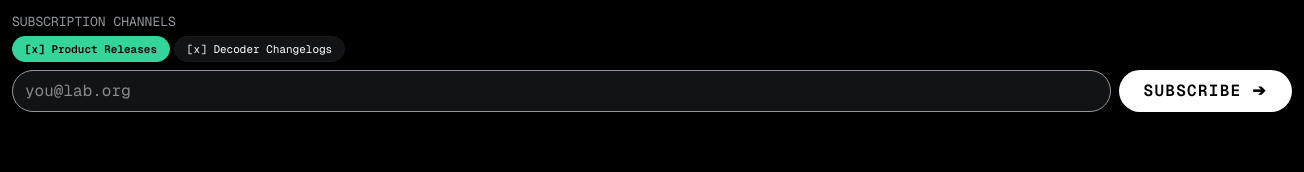
Test: SubscribeForm › subscribes and confirms on valid email
Type "researcher@lab.org" into the field with placeholder "you@lab.org" at (561, 91), box left=12, top=70, right=1110, bottom=112
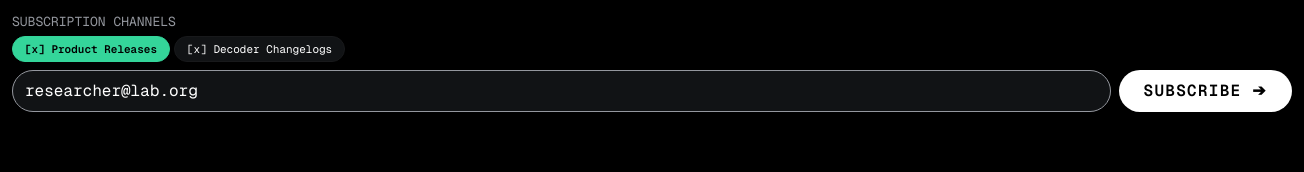
Click the button "Subscribe ➔" at (1205, 91), box left=1118, top=70, right=1292, bottom=112
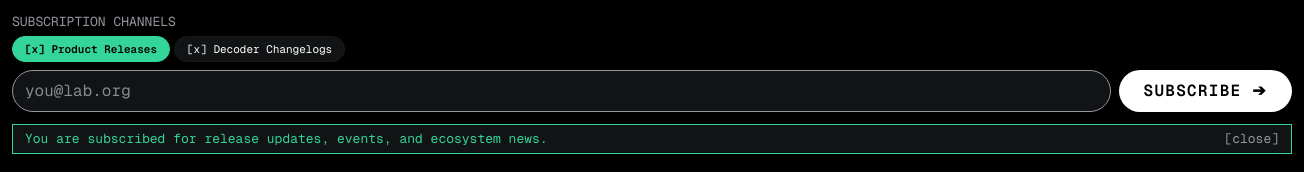
Now the message shows "release updates, events, and ecosystem news", box left=25, top=130, right=548, bottom=147
